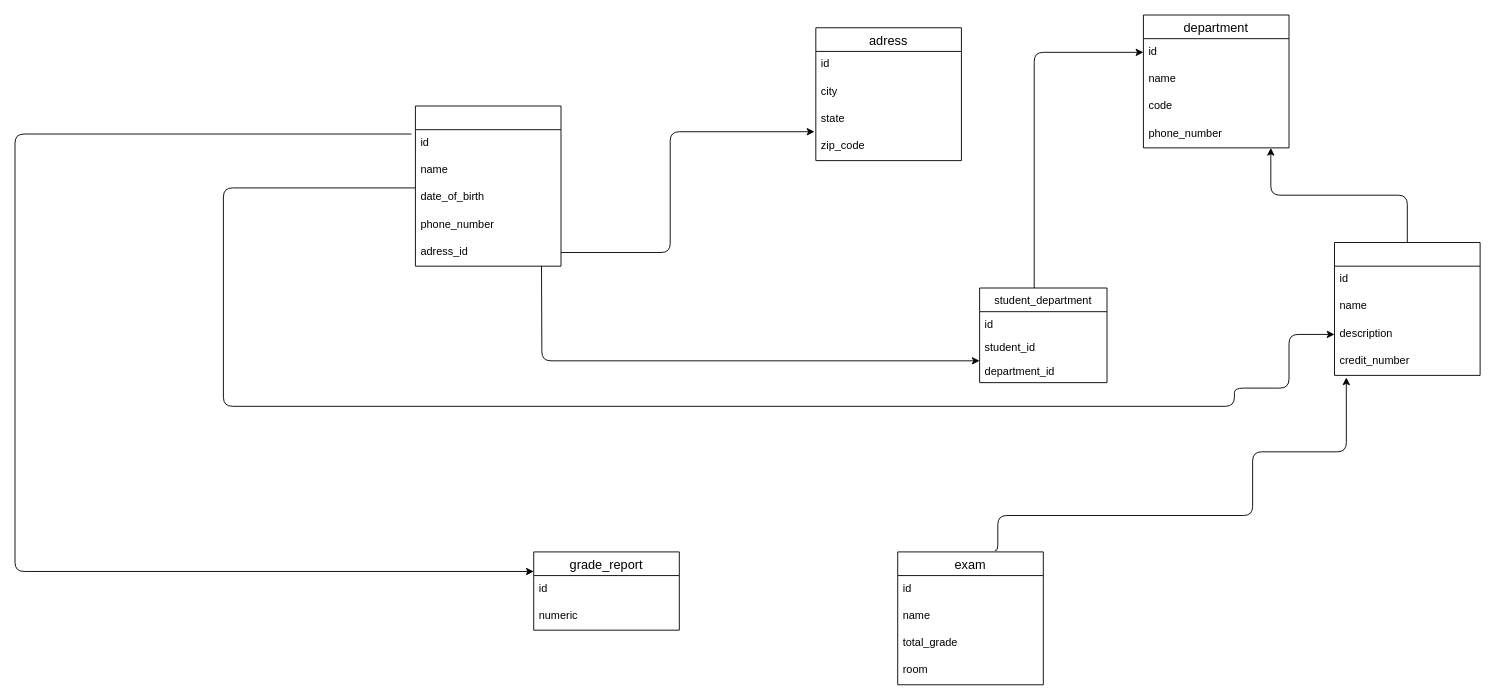
The diagram is 1495 pixels wide and 700 high, and some of its shapes have lost their labels. The shapes that lost their labels are listed below. From the top down, each one's box as (x1, y1, x2, y2) in pixels, then its label:
(415, 105, 561, 266): student
(1334, 242, 1480, 375): course
